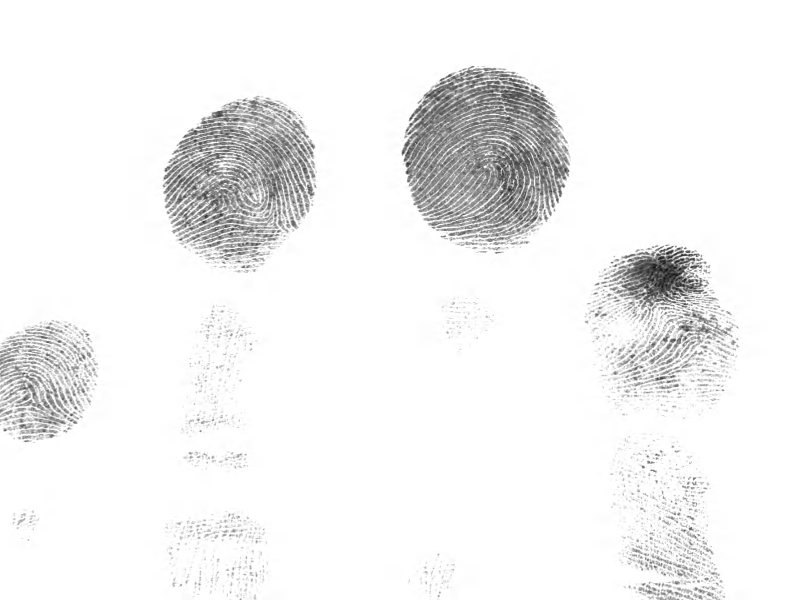D: (395, 59, 575, 259), (157, 78, 323, 273), (584, 233, 746, 422), (1, 311, 103, 451)
P: (164, 291, 288, 480), (592, 431, 729, 574)
